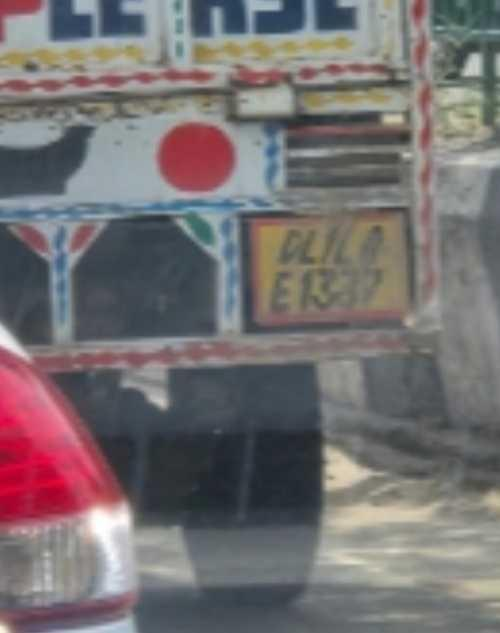License plate: (246, 209, 409, 326)
